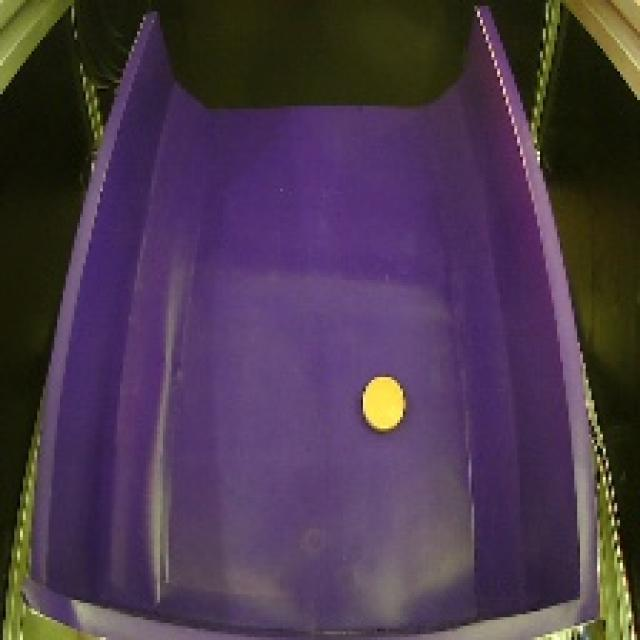small: (357, 373, 410, 436)
